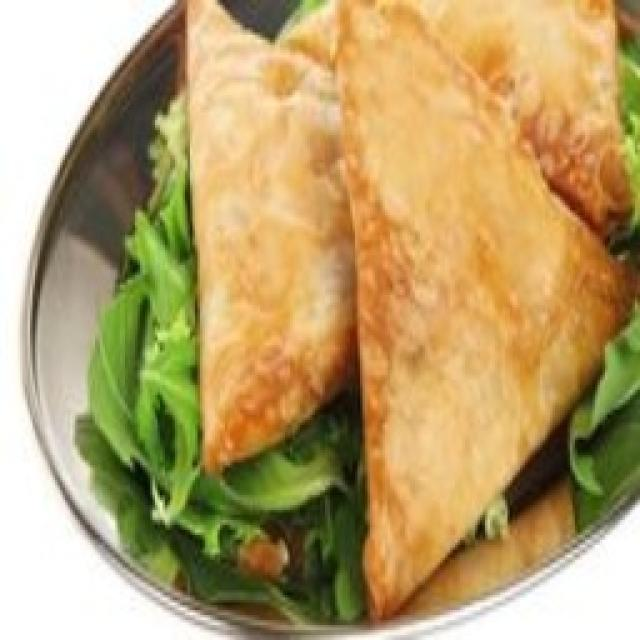Brik: (15, 0, 640, 635)
